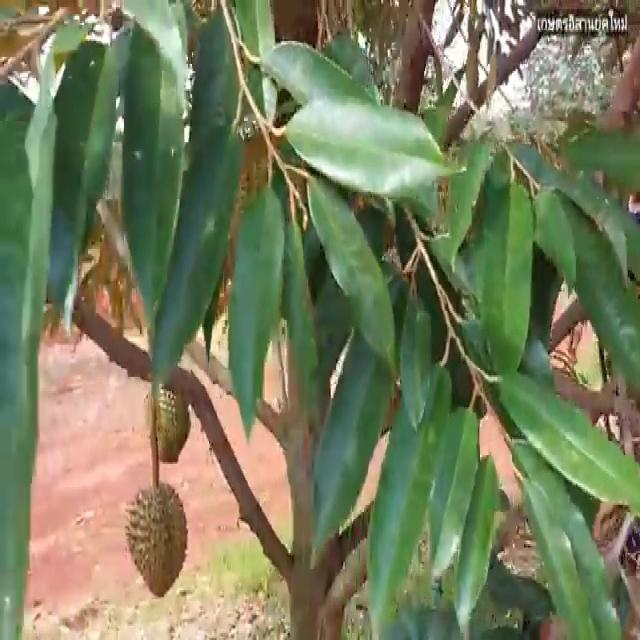durian: (118, 474, 191, 604), (141, 377, 196, 464)
